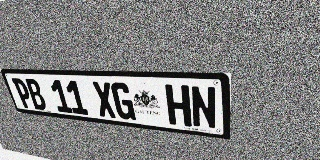1: (63, 80, 88, 115), (48, 80, 73, 113)
B: (24, 79, 48, 110)
G: (110, 82, 136, 120)
H: (165, 84, 192, 127)
N: (190, 85, 217, 130)
P: (11, 78, 35, 109)
X: (91, 81, 117, 118)
